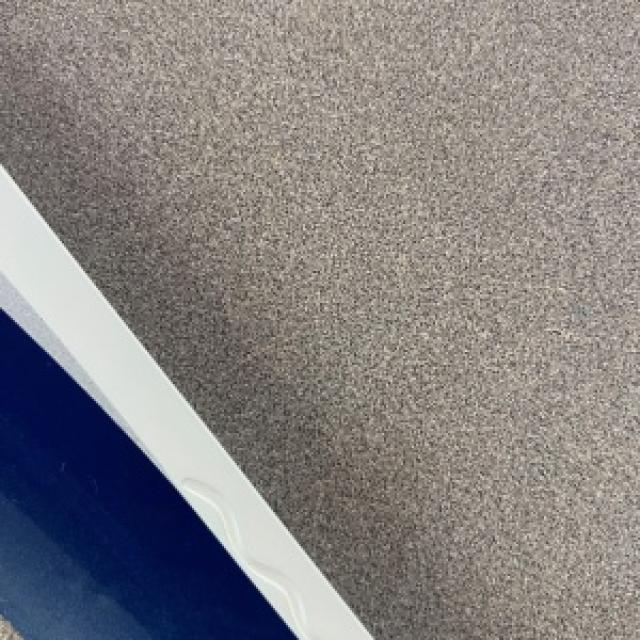healthy: (0, 0, 638, 638), (0, 166, 369, 638)
